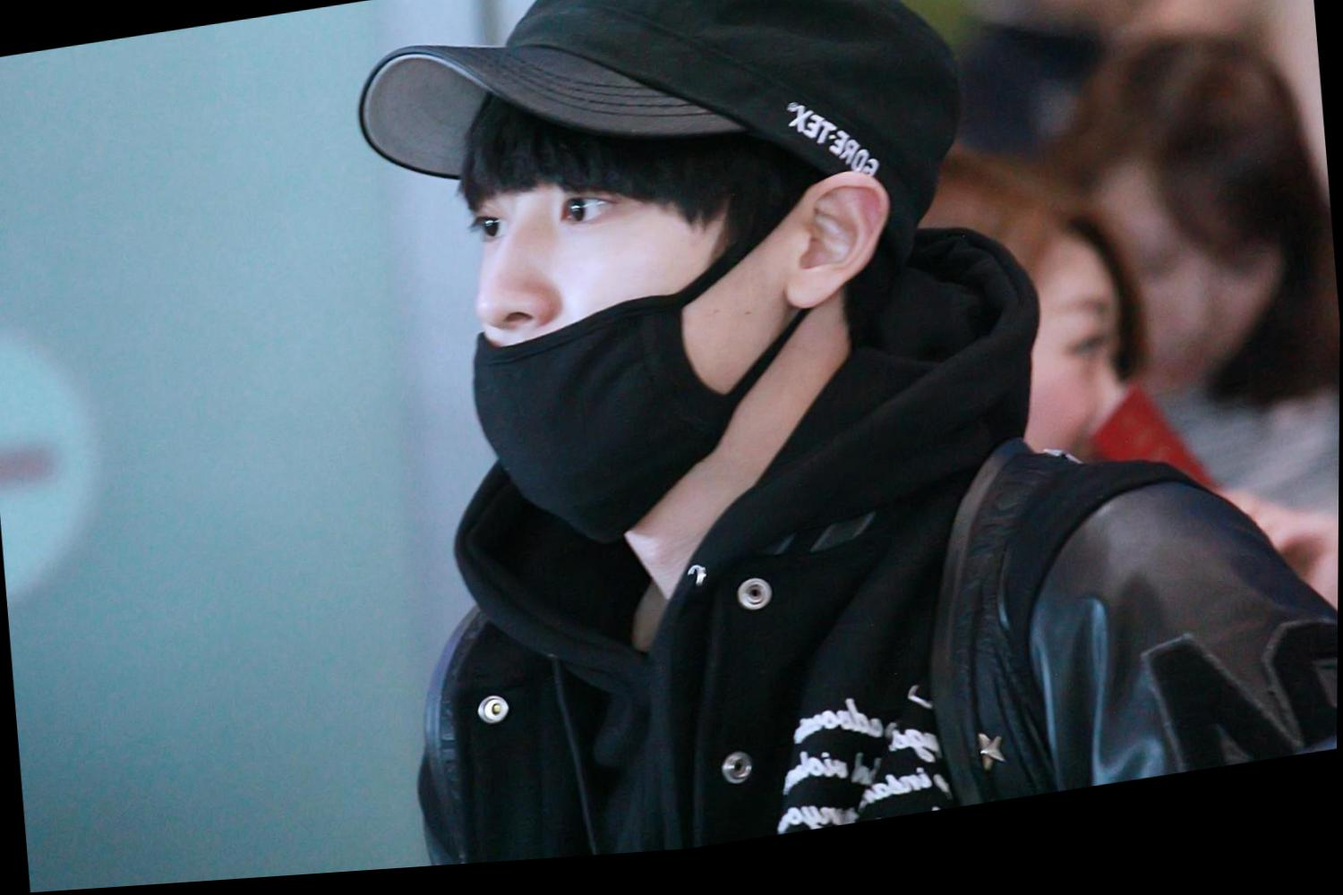NONE: (932, 306, 1159, 563), (1086, 231, 1297, 437)
WRONG: (434, 120, 842, 547)
